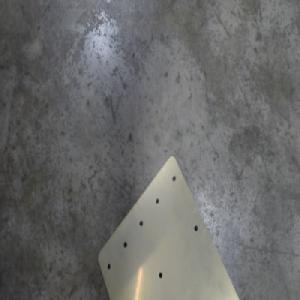MetalSheet: (96, 150, 245, 300)
